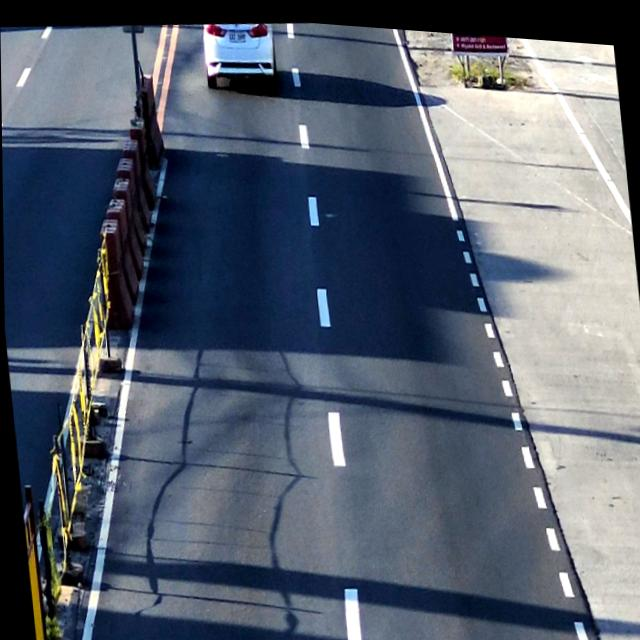Car: (198, 15, 282, 97)
License-Plate: (225, 25, 247, 42)
